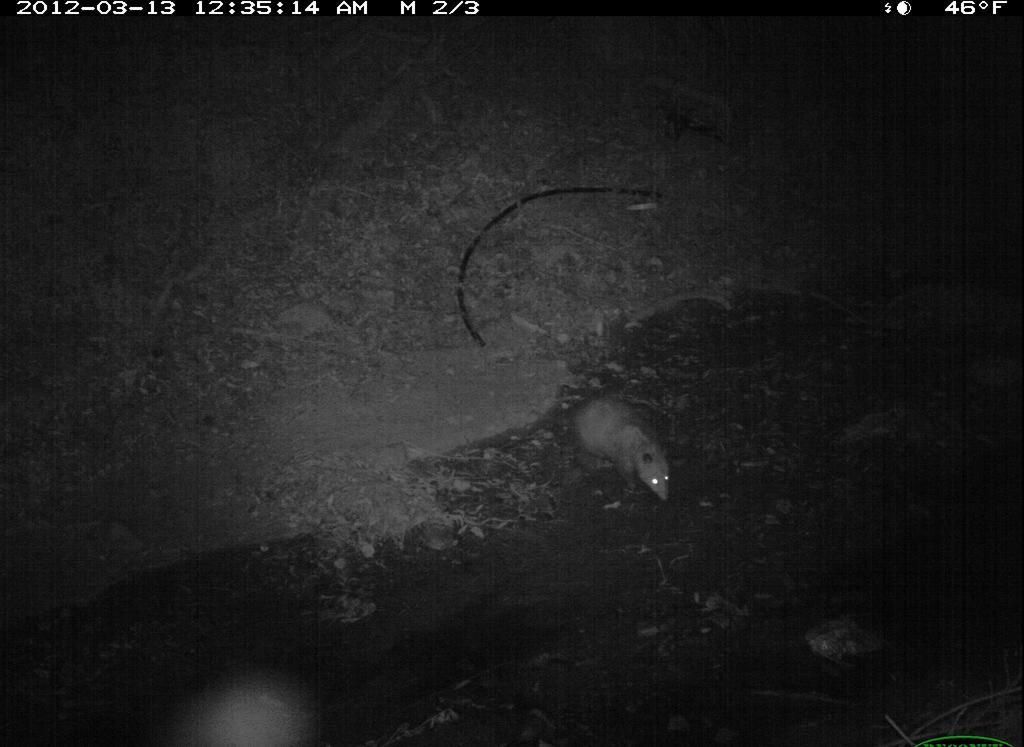opossum: (542, 377, 688, 520)
